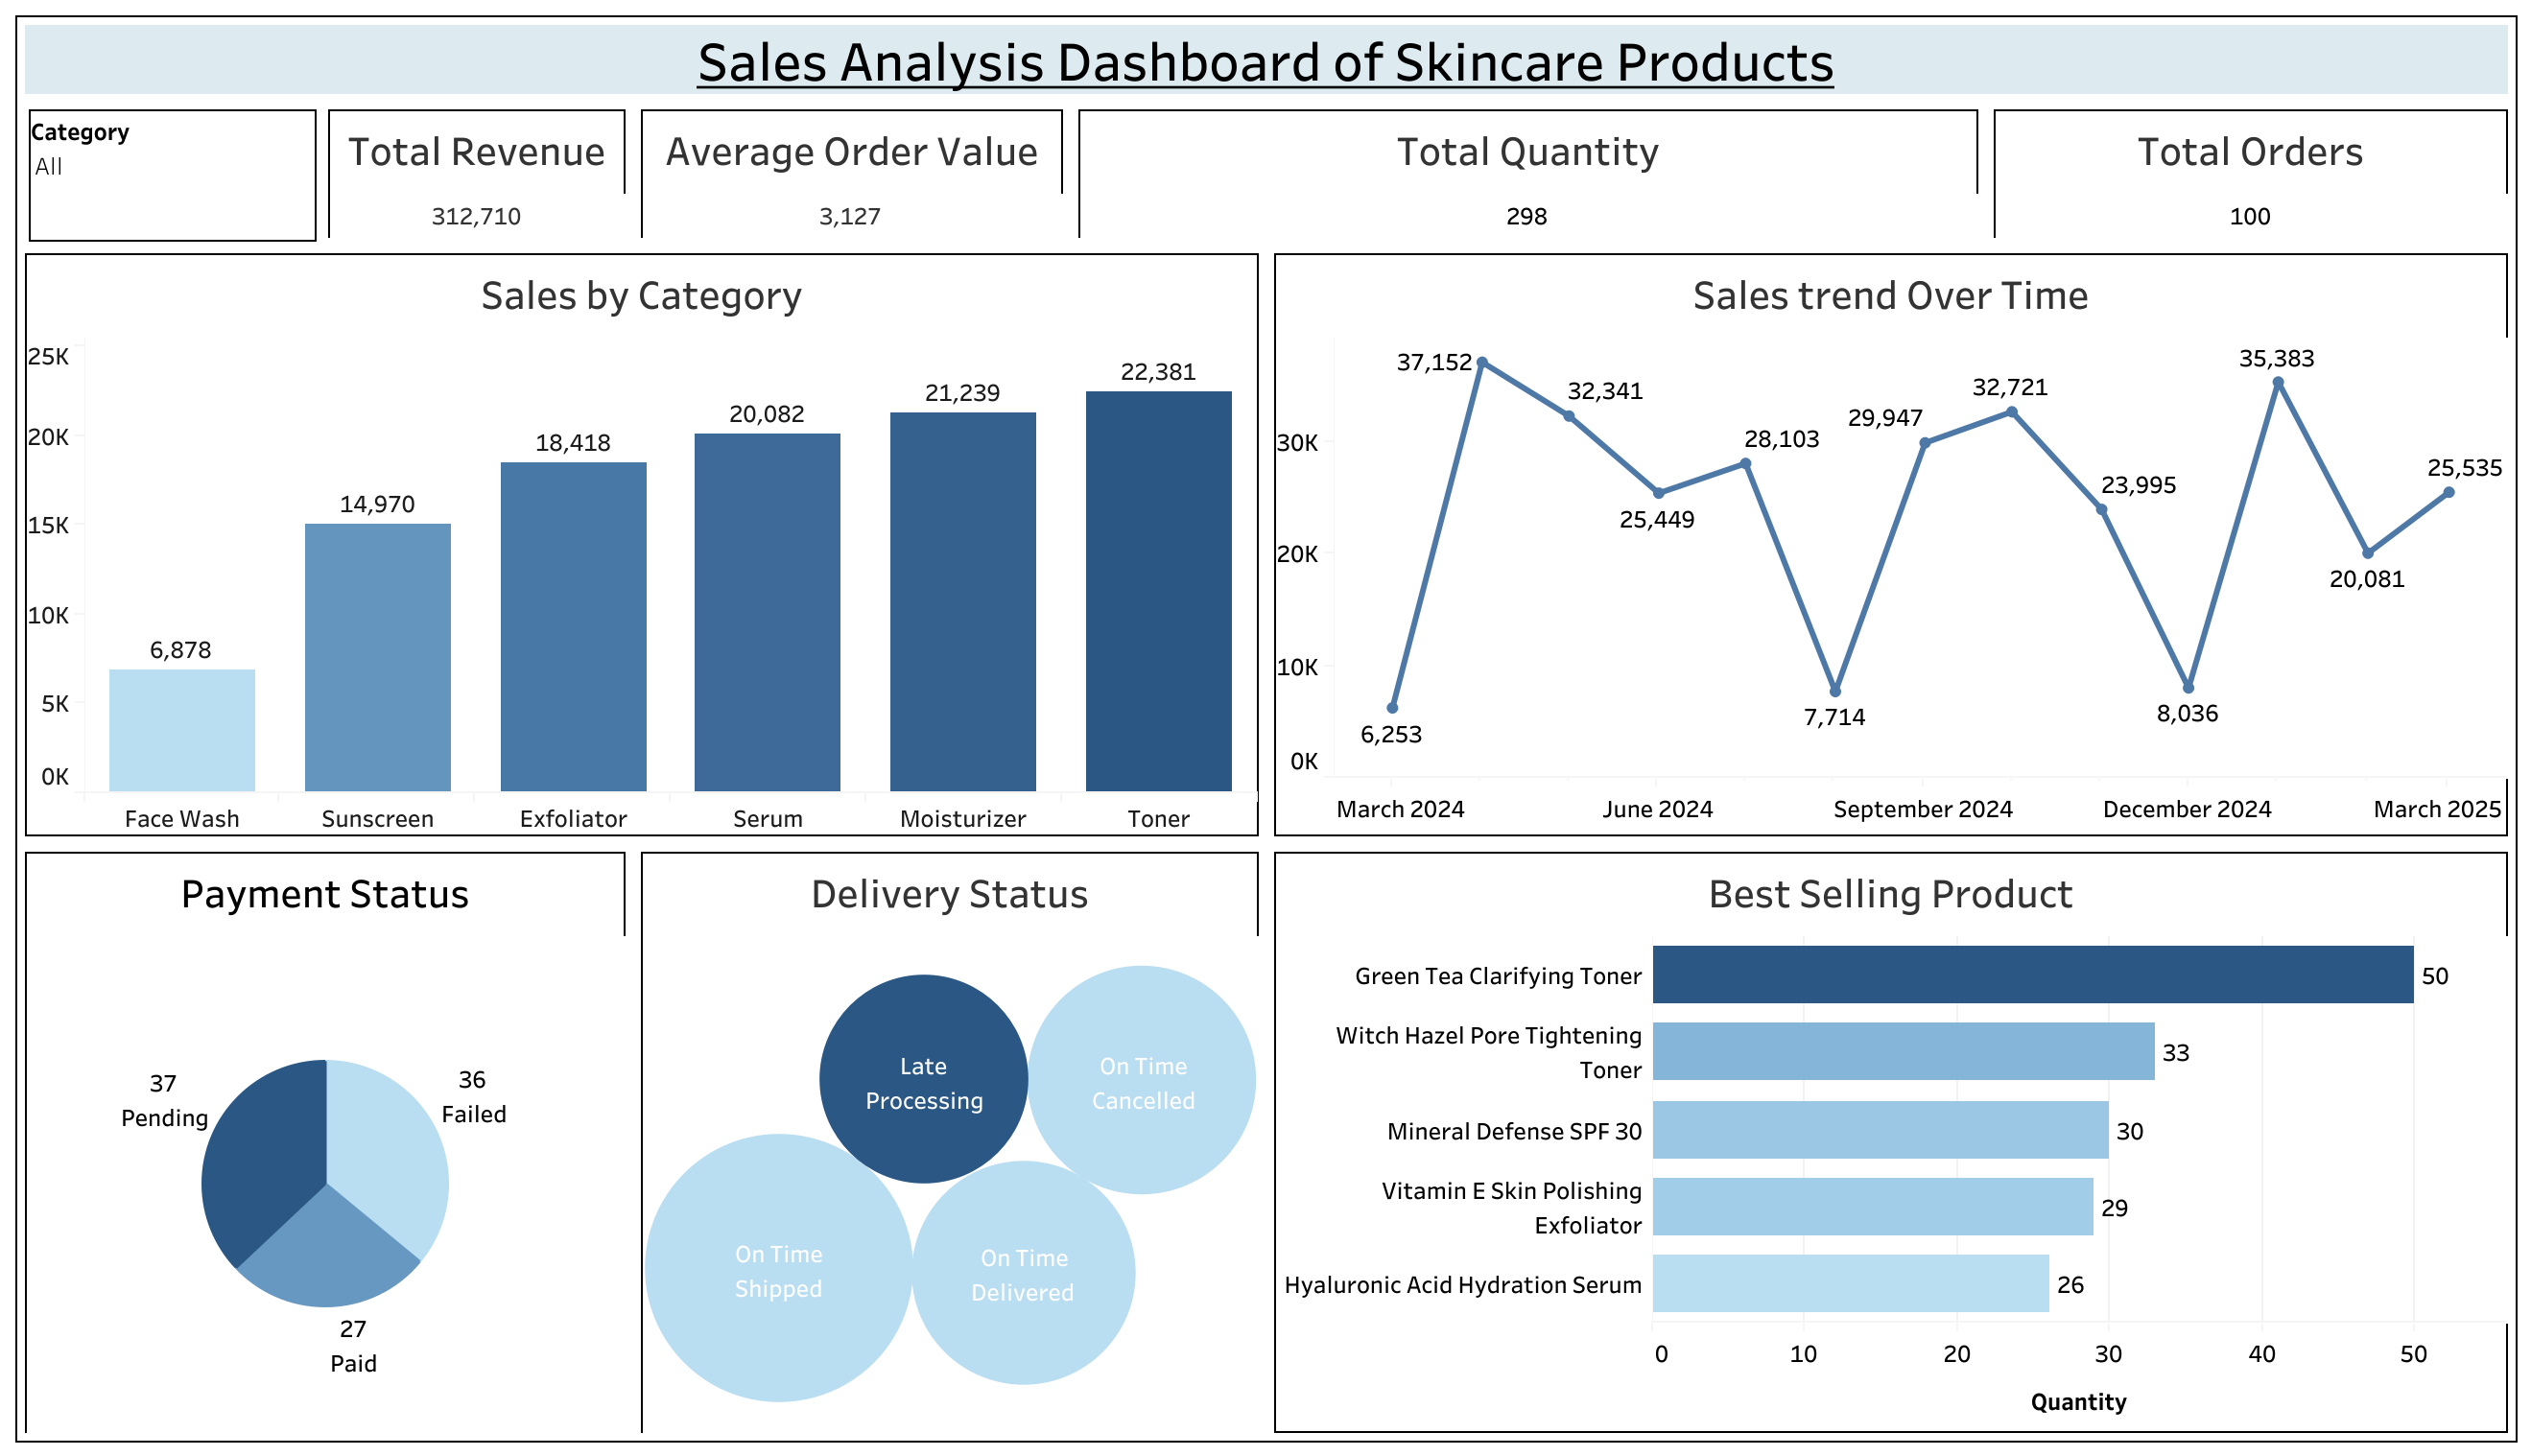

The dashboard page shown, as its layout file describes it:
{"tool":"tableau","page":{"name":"Dashboard 1","canvas":[1320,760],"ordinal":0},"visuals":[{"type":"text","box":[9,9,1302,44]},{"type":"blank","box":[9,53,158,75]},{"type":"worksheet","title":"Total Revenue","mark":"Automatic","box":[167,53,163,75]},{"type":"worksheet","title":"AOV","mark":"Automatic","box":[330,53,228.1,75]},{"type":"worksheet","title":"Total Quantity","mark":"Automatic","box":[558.1,53,477.3,75]},{"type":"worksheet","title":"Total Orders","mark":"Automatic","box":[1035.4,53,275.6,75]},{"type":"filter","title":"Total Orders","param":"[federated.1929qer1c3apwr191cj4q1exkyvz].[none:Category:nk]","box":[15,57,150,69]},{"type":"worksheet","title":"Sales by Category","mark":"Automatic","rows":["Price"],"cols":["Category"],"box":[9,128,651,311.5]},{"type":"worksheet","title":"Sales trend Over Time","mark":"Line","rows":["Total_Price"],"cols":["Order_Date"],"box":[660,128,651,311.5]},{"type":"worksheet","title":"Payment Status","mark":"Pie","box":[9,439.5,321,311.5]},{"type":"worksheet","title":"Delivery Status","mark":"Circle","box":[330,439.5,330,311.5]},{"type":"worksheet","title":"Best Selling Product","mark":"Automatic","rows":["Product_Name"],"cols":["Quantity"],"box":[660,439.5,651,311.5]}]}

Visuals, with their boxes in screenshot pixels (x1, y1, x2, y2), scaled from the page's 1320x760 canvas onto the 2531x1456 screenshot:
text: [17,17,2514,102]
blank: [17,102,320,246]
"Total Revenue" worksheet: [320,102,633,246]
"AOV" worksheet: [633,102,1070,246]
"Total Quantity" worksheet: [1070,102,1985,246]
"Total Orders" worksheet: [1985,102,2514,246]
"Total Orders" filter: [29,109,317,242]
"Sales by Category" worksheet: [17,246,1265,842]
"Sales trend Over Time" worksheet (Line marks): [1265,246,2514,842]
"Payment Status" worksheet (Pie marks): [17,842,633,1439]
"Delivery Status" worksheet (Circle marks): [633,842,1265,1439]
"Best Selling Product" worksheet: [1265,842,2514,1439]
